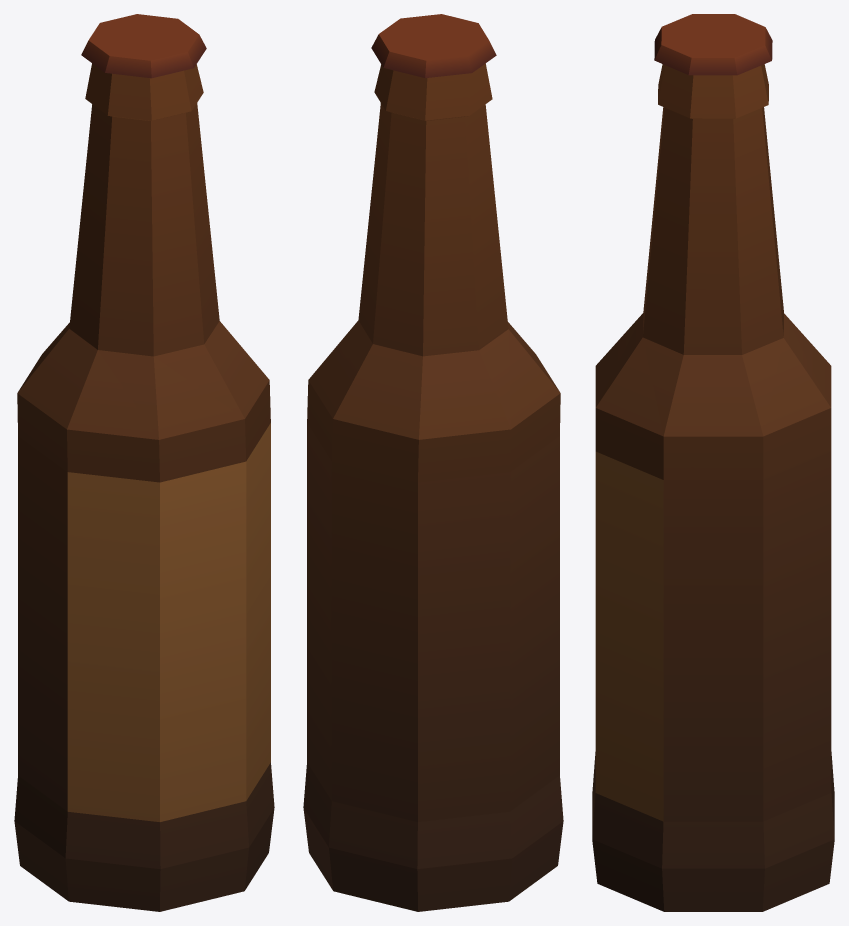
File: Prop_Beer_Bottle_02.obj
3 renders of one model, left to right at view 1: azimuth 30°, elevation 25°; view 2: azimuth 150°, elevation 25°; view 3: azimuth 270°, elevation 25°, orthographic.
Visible parts, largest first — view 1: Prop_Beer_Bottle_02; view 2: Prop_Beer_Bottle_02; view 3: Prop_Beer_Bottle_02.
Part boxes in pixels (x1,y1,x2,y2): Prop_Beer_Bottle_02: (14, 14, 274, 911); Prop_Beer_Bottle_02: (303, 14, 563, 911); Prop_Beer_Bottle_02: (592, 14, 834, 911).
Size of the model in its own units: 0.0661 by 0.2497 by 0.0661.
1 material, 1 textured.
